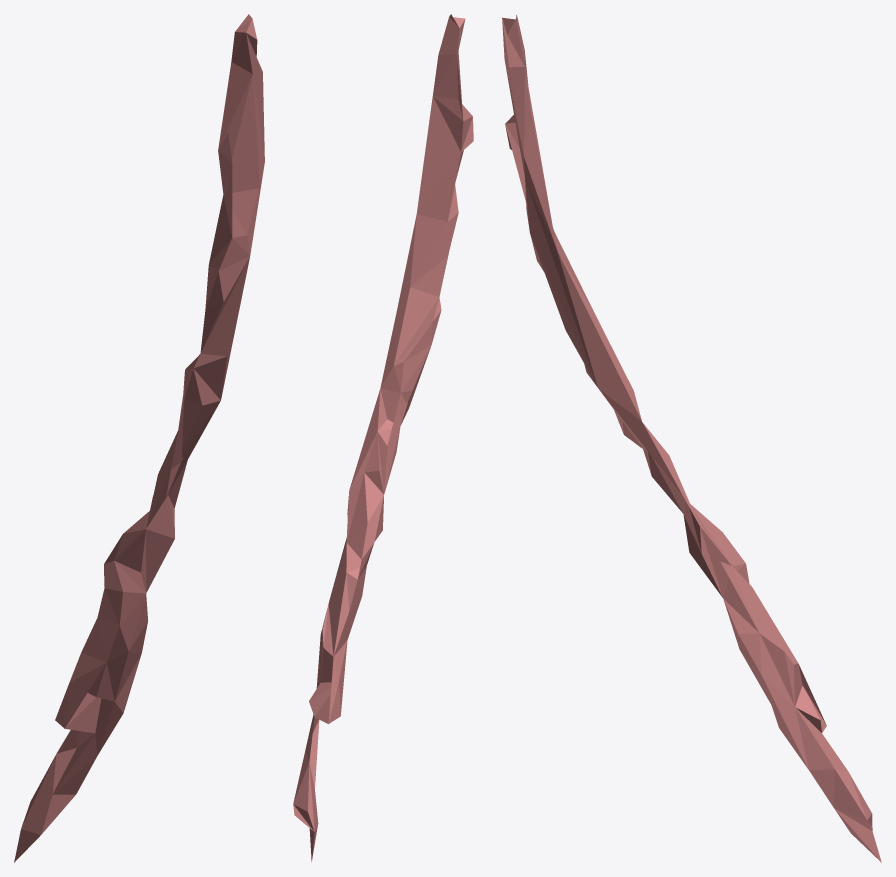
Rendered from Spinalis_colli_muscle.l.glb.
The picture shows the model from 3 angles, left to right: view 1: azimuth 30°, elevation 25°; view 2: azimuth 150°, elevation 25°; view 3: azimuth 270°, elevation 25°; orthographic projection. The views are drawn at different scales.
Parts seen in each view (by area): view 1: Spinalis_colli_muscle.l; view 2: Spinalis_colli_muscle.l; view 3: Spinalis_colli_muscle.l.
Part boxes in pixels (x1,y1,x2,y2): Spinalis_colli_muscle.l: [14, 14, 264, 862]; Spinalis_colli_muscle.l: [293, 14, 473, 861]; Spinalis_colli_muscle.l: [502, 15, 881, 862].
Bounding box in the file's own units: 0.0068 × 0.1037 × 0.0416.
